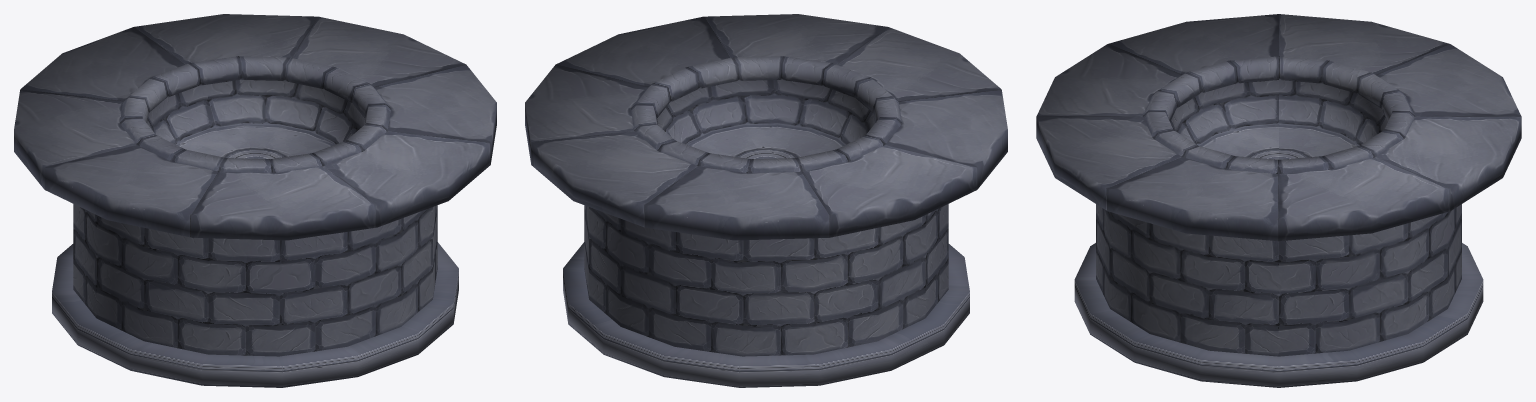
The model's file is FirepitCheckpoint.fbx.
The picture shows the model from 3 angles, left to right: view 1: azimuth 30°, elevation 25°; view 2: azimuth 150°, elevation 25°; view 3: azimuth 270°, elevation 25°; orthographic projection.
Parts seen in each view (by area): view 1: Firepit; view 2: Firepit; view 3: Firepit.
Boxes of the visible parts, bbox=[...] form: Firepit: bbox=[14, 14, 496, 387]; Firepit: bbox=[525, 14, 1007, 387]; Firepit: bbox=[1036, 14, 1521, 387].
Bounding box in the file's own units: 237 × 103 × 237.
